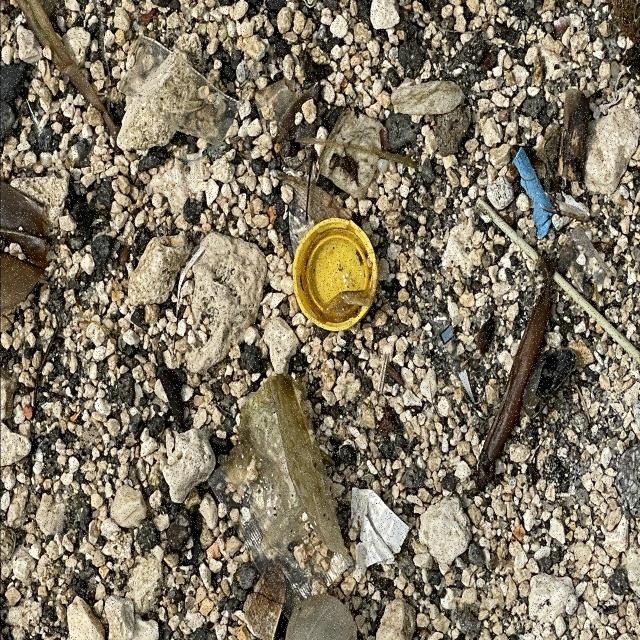plastic_waste: (291, 216, 377, 332)
